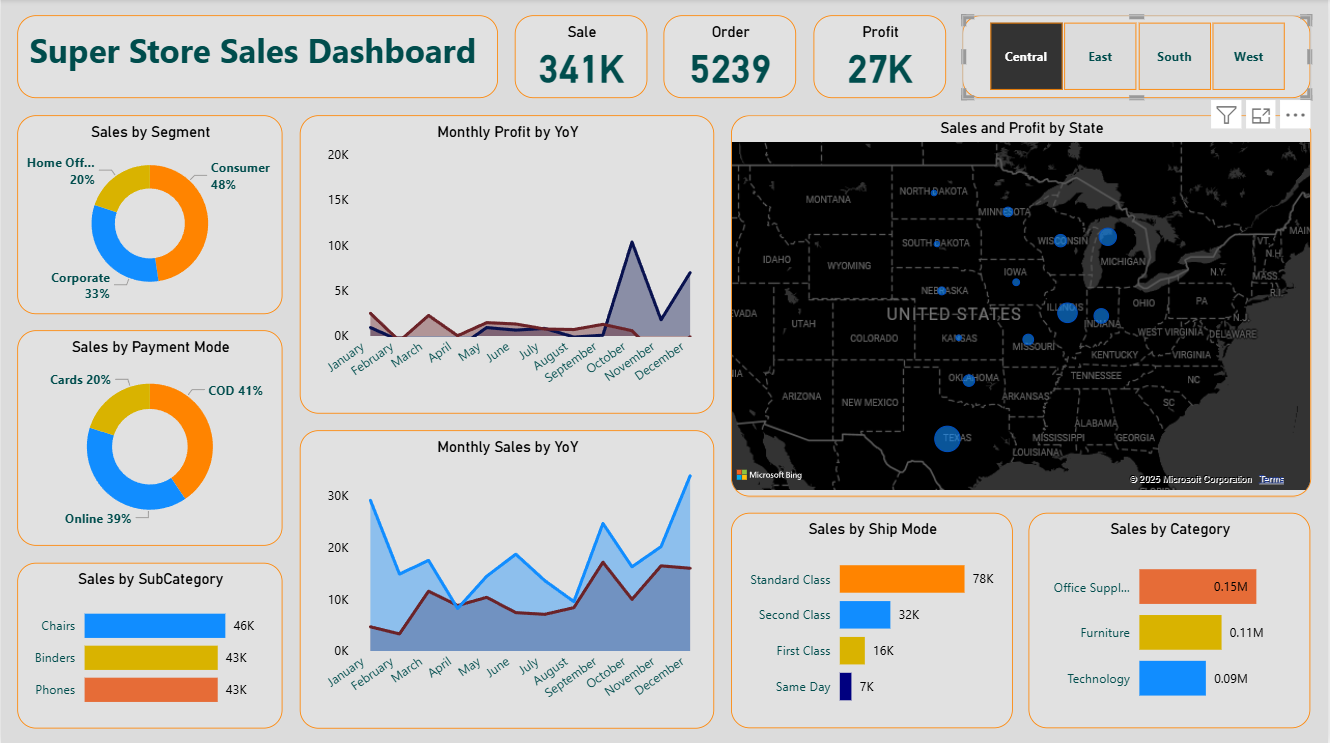

The dashboard page shown, as its layout file describes it:
{"tool":"powerbi","page":{"name":"Page 1","canvas":[1280,720],"ordinal":0},"visuals":[{"type":"clusteredBarChart","title":"Sales by Category","fields":{"Category":["SuperStore_Sales_Dataset.Category"],"Y":["Sum(SuperStore_Sales_Dataset.Sales)"]},"box":[992,496,272,208],"z":0},{"type":"clusteredBarChart","title":"Sales by SubCategory","fields":{"Category":["SuperStore_Sales_Dataset.Sub-Category"],"Y":["Sum(SuperStore_Sales_Dataset.Sales)"]},"box":[16,544,256,160],"z":1000},{"type":"clusteredBarChart","title":"Sales by Ship Mode","fields":{"Category":["SuperStore_Sales_Dataset.Ship Mode"],"Y":["Sum(SuperStore_Sales_Dataset.Sales)"]},"box":[704,496,272,208],"z":2000},{"type":"areaChart","title":"Monthly Sales by YoY","fields":{"Y":["Sum(SuperStore_Sales_Dataset.Sales)"],"Category":["SuperStore_Sales_Dataset.Ship Date.Variation.Date Hierarchy.Month","SuperStore_Sales_Dataset.Ship Date.Variation.Date Hierarchy.Day"],"Series":["SuperStore_Sales_Dataset.Order Date.Variation.Date Hierarchy.Year"]},"box":[288,416,400,288],"z":3000},{"type":"areaChart","title":"Monthly Profit by YoY","fields":{"Category":["SuperStore_Sales_Dataset.Ship Date.Variation.Date Hierarchy.Month"],"Series":["SuperStore_Sales_Dataset.Order Date.Variation.Date Hierarchy.Year"],"Y":["Sum(SuperStore_Sales_Dataset.Profit)"]},"box":[288,112,400,288],"z":4000},{"type":"map","title":"Sales and  Profit by State","fields":{"Category":["SuperStore_Sales_Dataset.State"],"Size":["Sum(SuperStore_Sales_Dataset.Sales)"]},"box":[704,112,560,368],"z":5000},{"type":"donutChart","title":"Sales by Segment","fields":{"Category":["SuperStore_Sales_Dataset.Segment"],"Y":["Sum(SuperStore_Sales_Dataset.Sales)"]},"box":[16,112,256,192],"z":6000},{"type":"donutChart","title":"Sales by Payment Mode","fields":{"Category":["SuperStore_Sales_Dataset.Payment Mode"],"Y":["Sum(SuperStore_Sales_Dataset.Sales)"]},"box":[16,320,256,208],"z":7000},{"type":"slicer","fields":{"Values":["SuperStore_Sales_Dataset.Region"]},"box":[928,16,336,80],"z":8000},{"type":"textbox","box":[16,16,464,80],"z":9000},{"type":"card","title":"Sale","fields":{"Values":["Sum(SuperStore_Sales_Dataset.Sales)"]},"box":[496,16,128,80],"z":10000},{"type":"card","title":"Order","fields":{"Values":["Sum(SuperStore_Sales_Dataset.Quantity)"]},"box":[640,16,128,80],"z":11000},{"type":"card","title":"Profit","fields":{"Values":["Sum(SuperStore_Sales_Dataset.Profit)"]},"box":[784,16,128,80],"z":12000}]}

Visuals, with their boxes in screenshot pixels (x1, y1, x2, y2), scaled from the page's 1280x720 canvas onto the 1330x743 screenshot:
"Sales by Category" clusteredBarChart: (x1=1031, y1=512, x2=1313, y2=726)
"Sales by SubCategory" clusteredBarChart: (x1=17, y1=561, x2=283, y2=726)
"Sales by Ship Mode" clusteredBarChart: (x1=732, y1=512, x2=1014, y2=726)
"Monthly Sales by YoY" areaChart: (x1=299, y1=429, x2=715, y2=726)
"Monthly Profit by YoY" areaChart: (x1=299, y1=116, x2=715, y2=413)
"Sales and  Profit by State" map: (x1=732, y1=116, x2=1313, y2=495)
"Sales by Segment" donutChart: (x1=17, y1=116, x2=283, y2=314)
"Sales by Payment Mode" donutChart: (x1=17, y1=330, x2=283, y2=545)
slicer - SuperStore_Sales_Dataset.Region: (x1=964, y1=17, x2=1313, y2=99)
textbox: (x1=17, y1=17, x2=499, y2=99)
"Sale" card: (x1=515, y1=17, x2=648, y2=99)
"Order" card: (x1=665, y1=17, x2=798, y2=99)
"Profit" card: (x1=815, y1=17, x2=948, y2=99)
